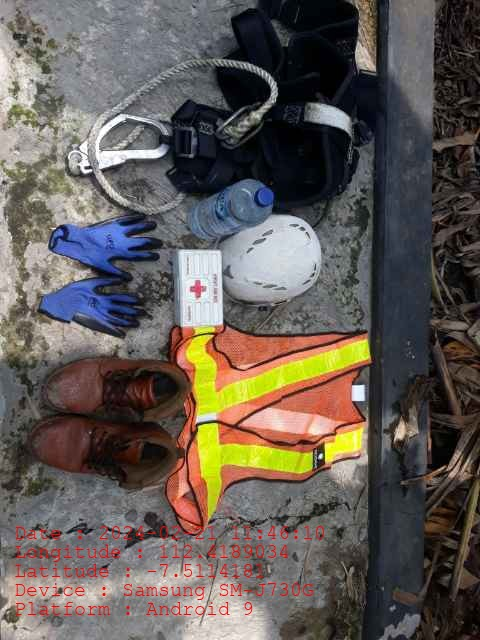HELM: (223, 216, 322, 307)
ROMPI: (187, 326, 368, 522)
SARUNG_TANGAN: (46, 212, 164, 282), (39, 275, 150, 340)
SEPATU: (27, 355, 191, 490)
